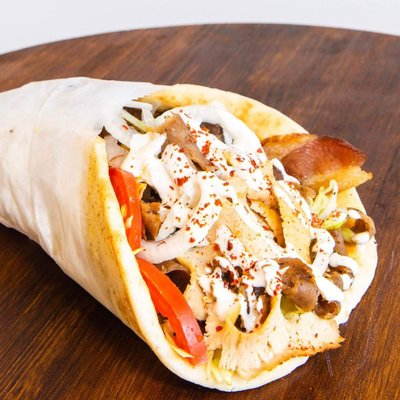curry: (1, 19, 400, 369)
sandwich: (24, 82, 383, 390)
